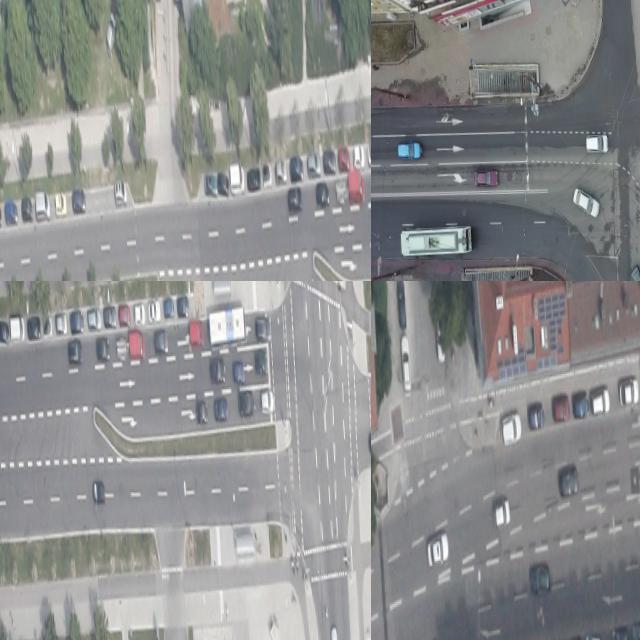UAI: (426, 529, 451, 568), (573, 186, 601, 219), (500, 411, 523, 446), (529, 562, 551, 596), (558, 464, 580, 498), (105, 10, 119, 58), (402, 336, 413, 392), (397, 139, 423, 162), (527, 401, 546, 432), (493, 499, 512, 530), (590, 388, 611, 416), (619, 381, 640, 407), (349, 171, 365, 204), (35, 190, 51, 223), (473, 169, 499, 189), (552, 393, 570, 421), (230, 161, 245, 194), (572, 391, 589, 419), (290, 153, 305, 184), (586, 134, 609, 154), (397, 281, 407, 327), (238, 390, 254, 418), (211, 357, 227, 385), (130, 331, 146, 359), (288, 186, 303, 214), (68, 339, 84, 365), (73, 188, 87, 216), (115, 179, 129, 207), (257, 315, 271, 343), (190, 321, 205, 347), (11, 316, 26, 342), (215, 396, 230, 421), (316, 182, 330, 208), (5, 200, 19, 226), (248, 167, 262, 193), (155, 329, 169, 355), (204, 172, 218, 197), (307, 151, 321, 176), (96, 337, 110, 362), (28, 315, 42, 340), (71, 308, 85, 333), (324, 150, 337, 176), (261, 388, 274, 414), (339, 145, 351, 173), (256, 349, 268, 377), (88, 308, 102, 331), (22, 197, 34, 223), (56, 190, 68, 216), (196, 399, 208, 425), (276, 159, 288, 184), (93, 481, 106, 504), (104, 306, 117, 329), (177, 295, 190, 318), (336, 179, 347, 206), (355, 142, 366, 169), (117, 335, 128, 362), (218, 171, 229, 197), (148, 301, 161, 323), (234, 361, 246, 384), (263, 162, 273, 189), (56, 312, 68, 334), (120, 305, 132, 327), (612, 625, 629, 640), (134, 303, 145, 324), (164, 298, 175, 319), (0, 318, 9, 343), (43, 315, 53, 336), (584, 629, 601, 640), (632, 619, 640, 640), (332, 626, 341, 640), (367, 140, 371, 166), (570, 633, 583, 640)
car: (400, 225, 473, 259), (209, 305, 248, 351)
